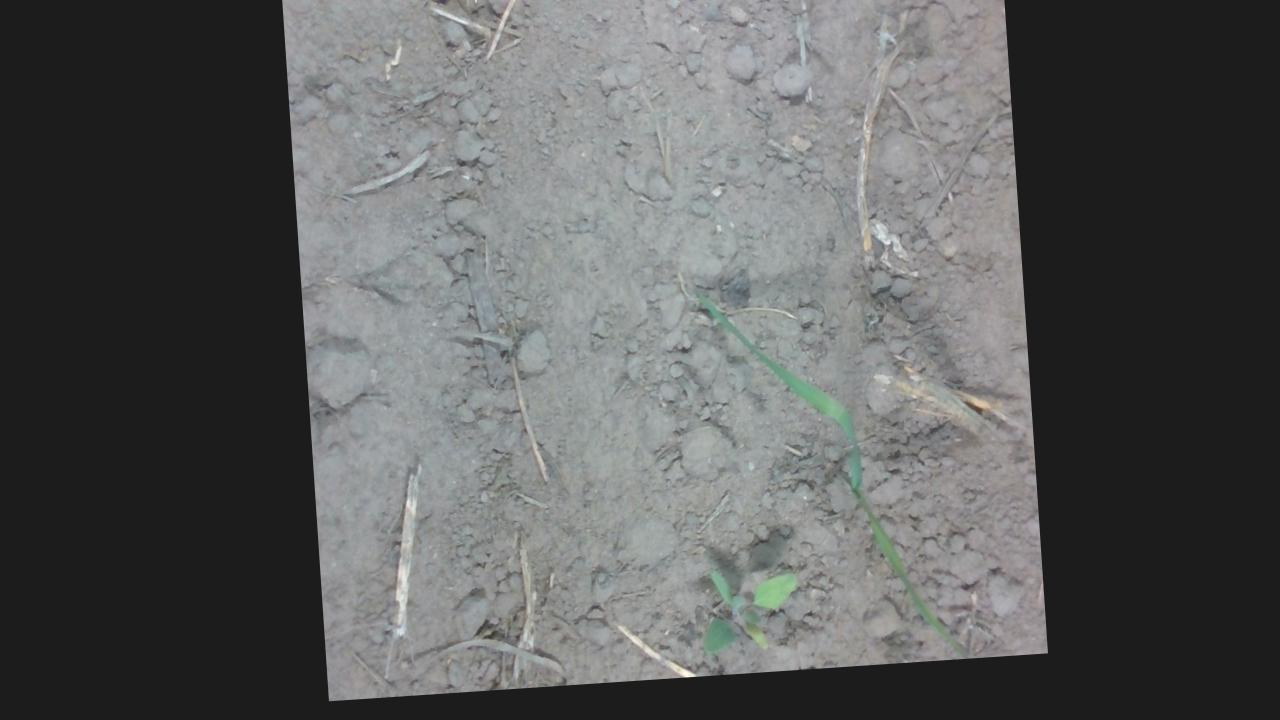weed: (686, 568, 798, 668)
